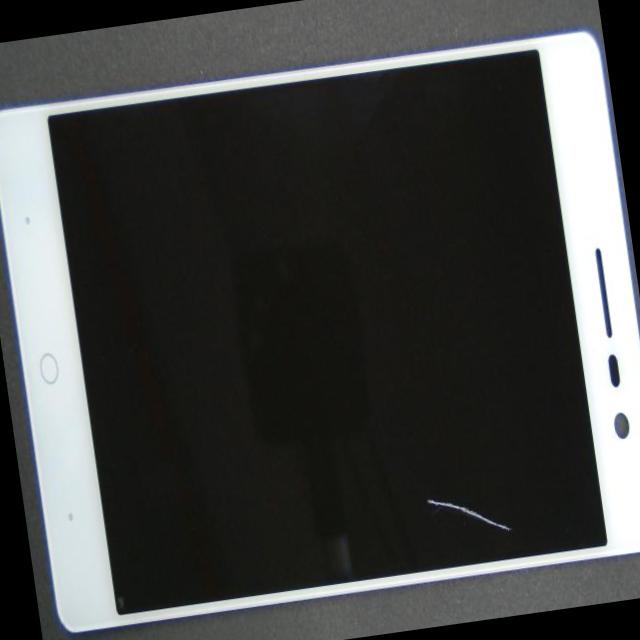scratch: (422, 479, 514, 545)
